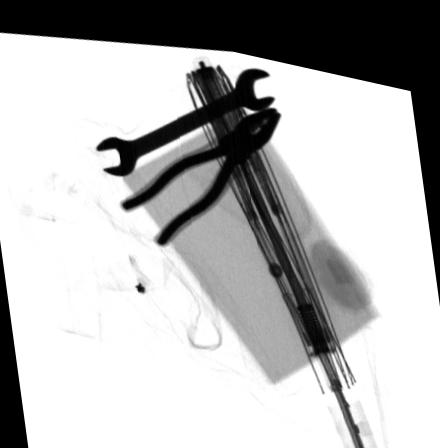Pliers: (115, 94, 280, 241)
Wrench: (96, 56, 275, 170)
